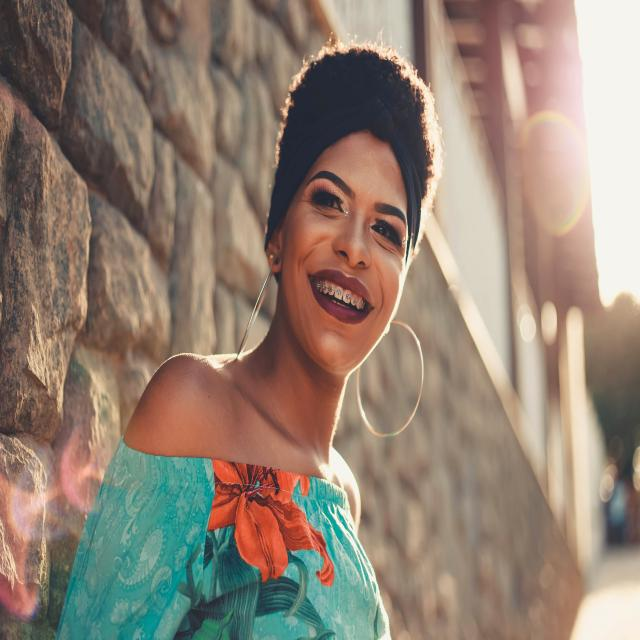adult: (56, 48, 451, 640)
